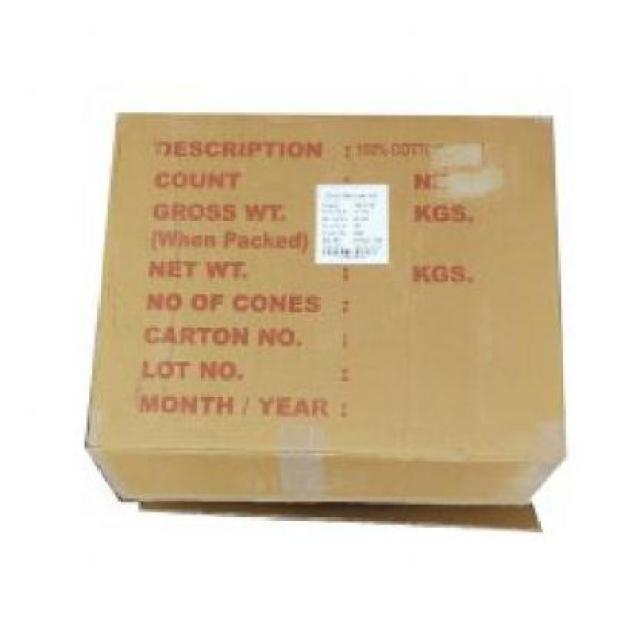box: (82, 108, 573, 540)
